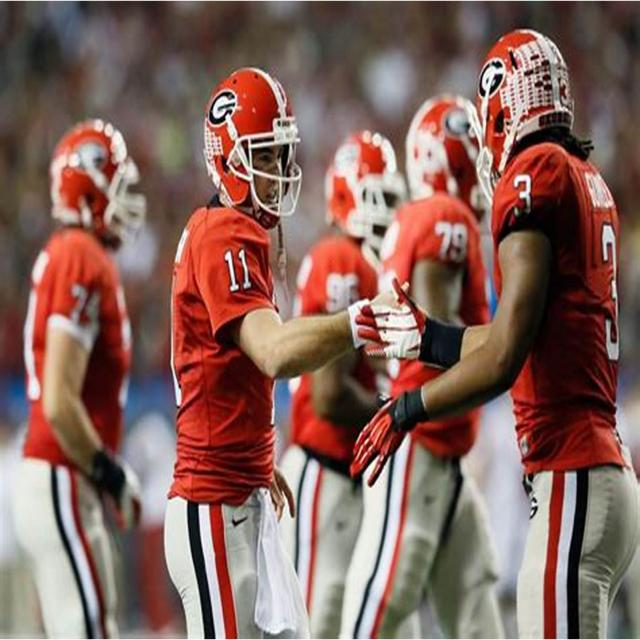illegal_helmet: (471, 25, 578, 206), (203, 60, 306, 228)
